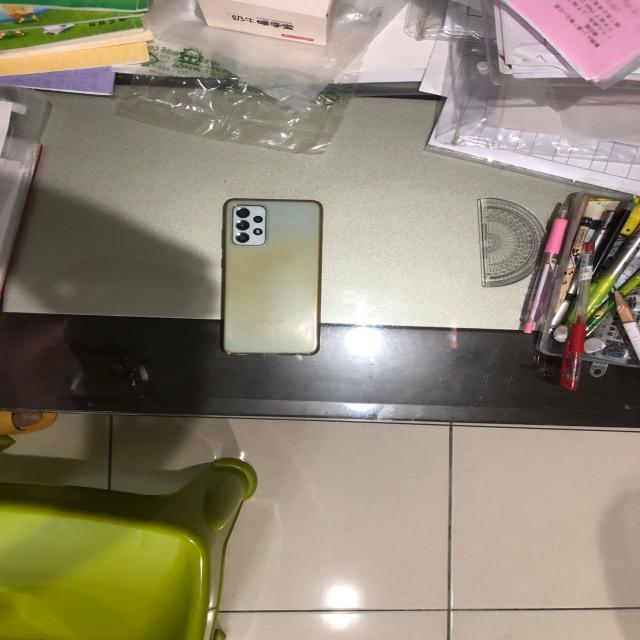Smartphone: (204, 191, 339, 380)
